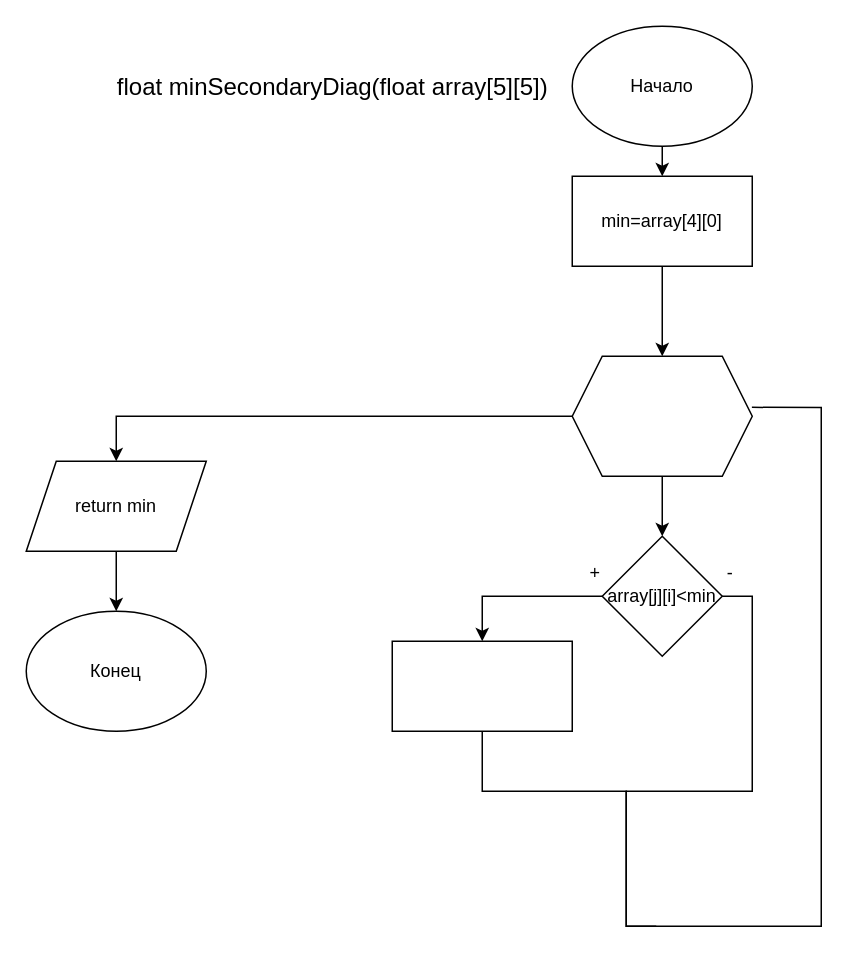
Some shapes in this 849 by 954 pixel diagram are drawn without their labels. The shapes that lost their labels are listed below. From the top down, each one's centre as x and y in pixels, then its label:
At [661,415]: "int i=0,j=4;i<5;i++,j--".
At [481,685]: "min = array[j][i]".
